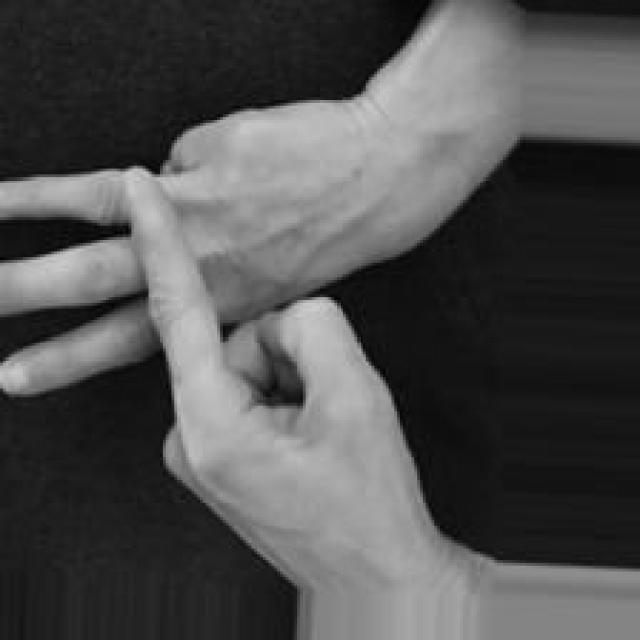E: (2, 100, 485, 569)
